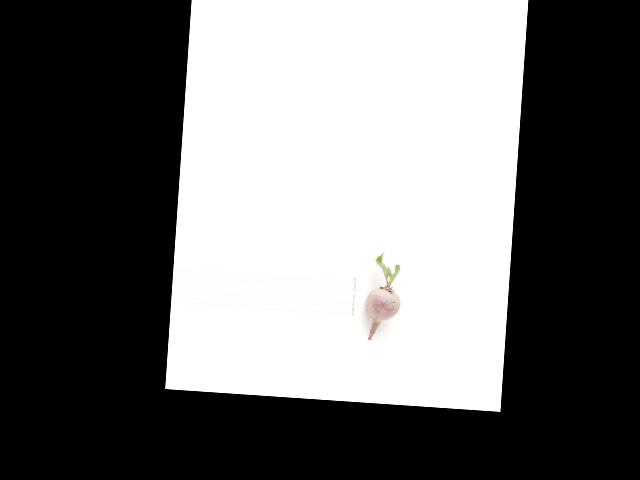beet: (363, 251, 403, 340)
